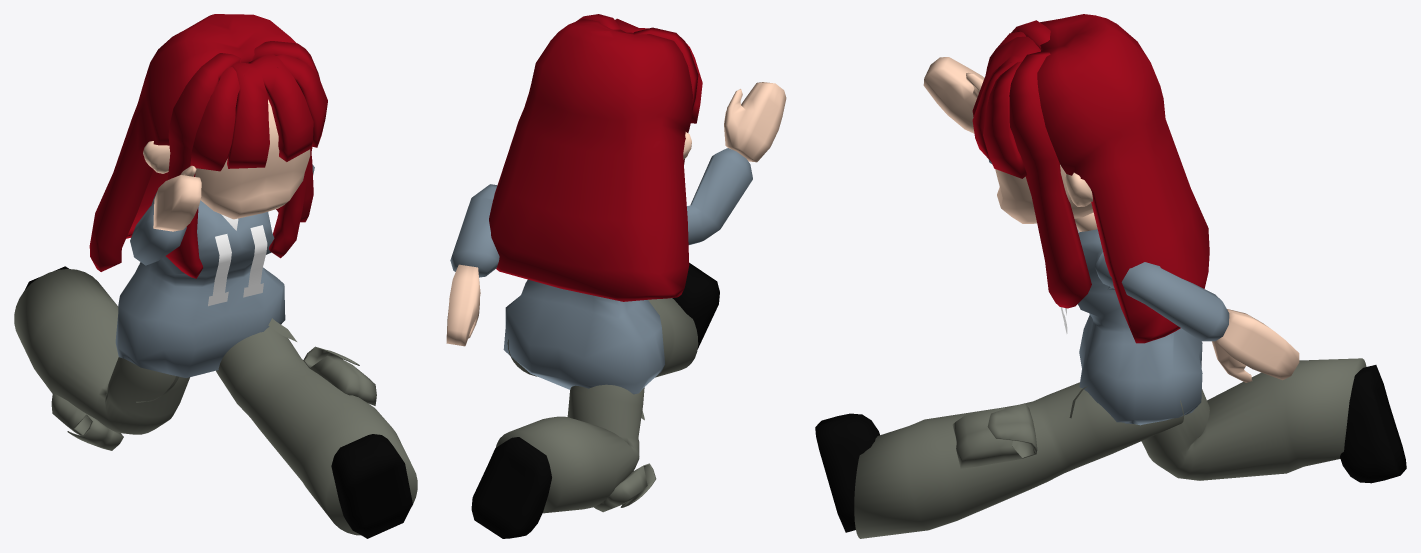
The model's file is umi_run_2.glb.
3 renders of one model, left to right at view 1: azimuth 30°, elevation 25°; view 2: azimuth 150°, elevation 25°; view 3: azimuth 270°, elevation 25°, orthographic. The views are drawn at different scales.
Visible parts, largest first — view 1: pants, sweater, hair.003, hair.001, hair, feet, head, hair.002, bolsillo, hand, Plane, ear; view 2: hair.003, sweater, pants, feet, hand, bolsillo, hair.001; view 3: pants, hair.003, sweater, hair.001, feet, hand, bolsillo, hair.002, hair, head.
Boxes of the visible parts, x1,y1,x2,y2 form: pants: (14, 269, 417, 535); sweater: (115, 164, 314, 377); hair.003: (89, 14, 313, 271); hair.001: (166, 41, 319, 278); hair: (227, 54, 313, 168); feet: (25, 266, 412, 538); head: (195, 99, 310, 219); hair.002: (190, 54, 327, 171); bolsillo: (51, 346, 376, 450); hand: (153, 165, 201, 231); Plane: (208, 225, 267, 306); ear: (143, 141, 170, 173); hair.003: (489, 18, 692, 301); sweater: (450, 148, 752, 394); pants: (496, 298, 698, 513); feet: (471, 262, 719, 538); hand: (446, 82, 786, 346); bolsillo: (593, 463, 656, 512); hair.001: (576, 14, 698, 164); pants: (854, 358, 1366, 538); hair.003: (1037, 14, 1209, 343); sweater: (988, 159, 1229, 425); hair.001: (1009, 20, 1091, 308); feet: (815, 365, 1406, 532); hand: (923, 57, 1299, 382); bolsillo: (952, 404, 1037, 468); hair.002: (983, 31, 1026, 178); hair: (972, 36, 1040, 161); head: (995, 164, 1093, 223).
Bounding box in the file's own units: 2.08 × 3.74 × 4.14.
